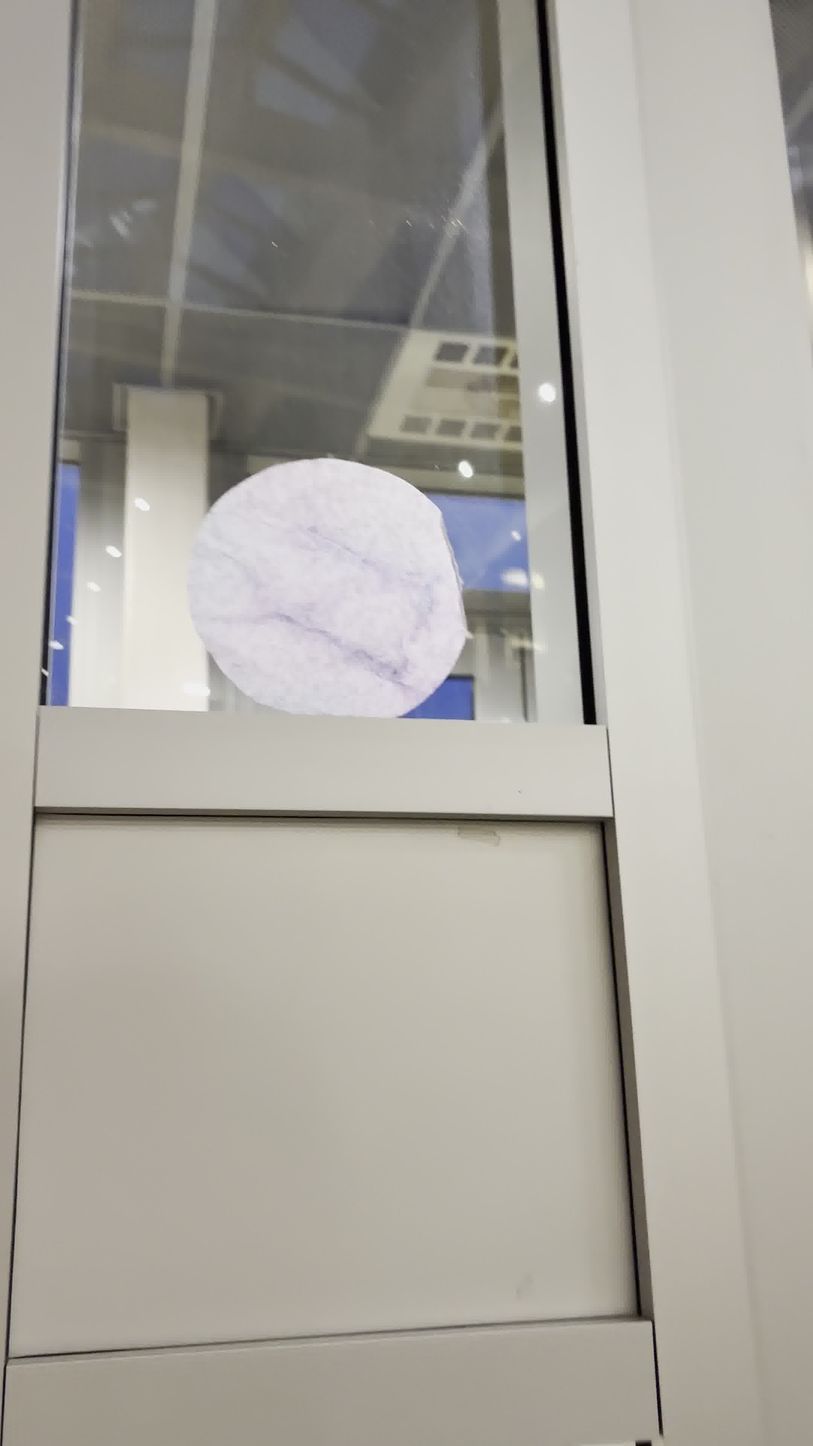Target: (181, 458, 469, 720)
